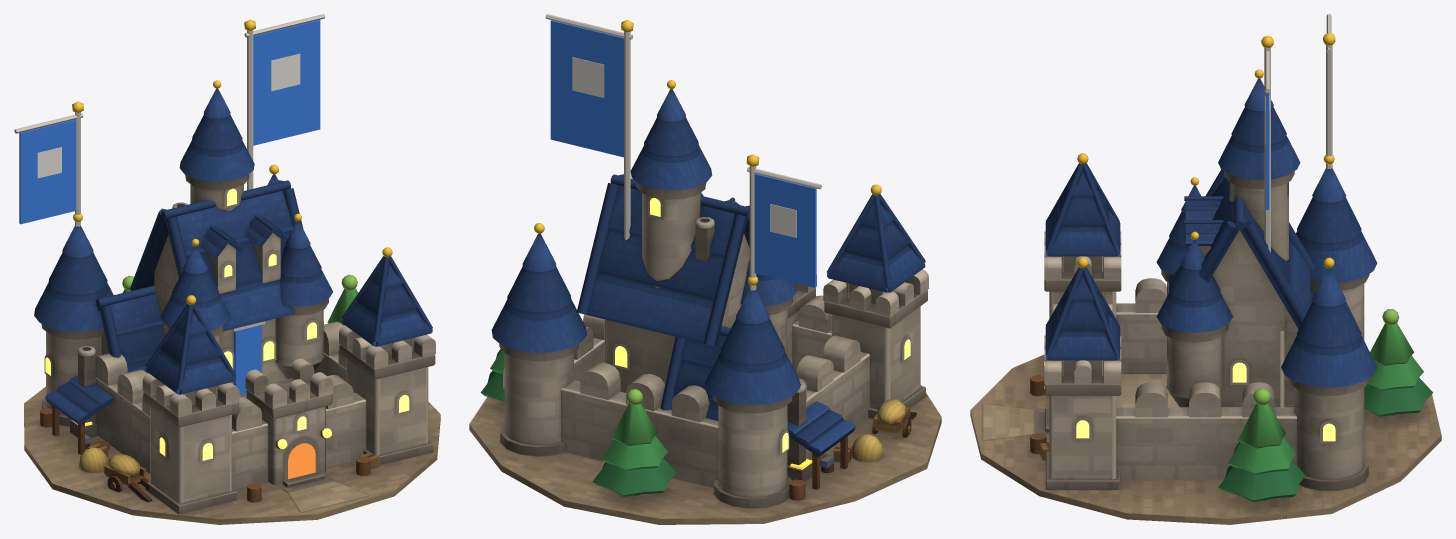
File: residence_dl4_blue.glb
3 views of the same model, side by side, from view 1: azimuth 30°, elevation 25°; view 2: azimuth 150°, elevation 25°; view 3: azimuth 270°, elevation 25° (orthographic). The views are drawn at different scales.
Visible parts, largest first — view 1: residence_dl4_blue; view 2: residence_dl4_blue; view 3: residence_dl4_blue.
Boxes of the visible parts, left/top/right/bottom form: residence_dl4_blue: left=14, top=14, right=440, bottom=524; residence_dl4_blue: left=469, top=14, right=941, bottom=524; residence_dl4_blue: left=970, top=14, right=1441, bottom=524.
Bounding box in the file's own units: 1.67 × 1.68 × 1.68.
5 materials, 1 textured.
